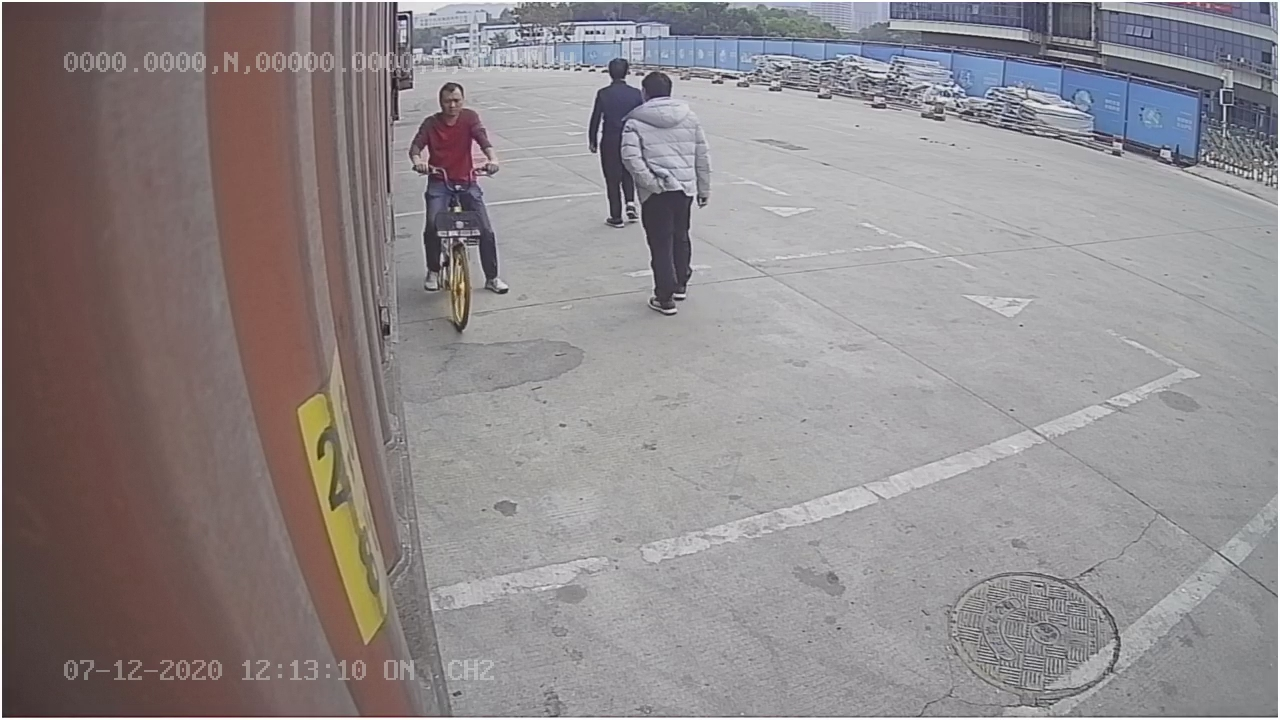person: (619, 68, 714, 314)
